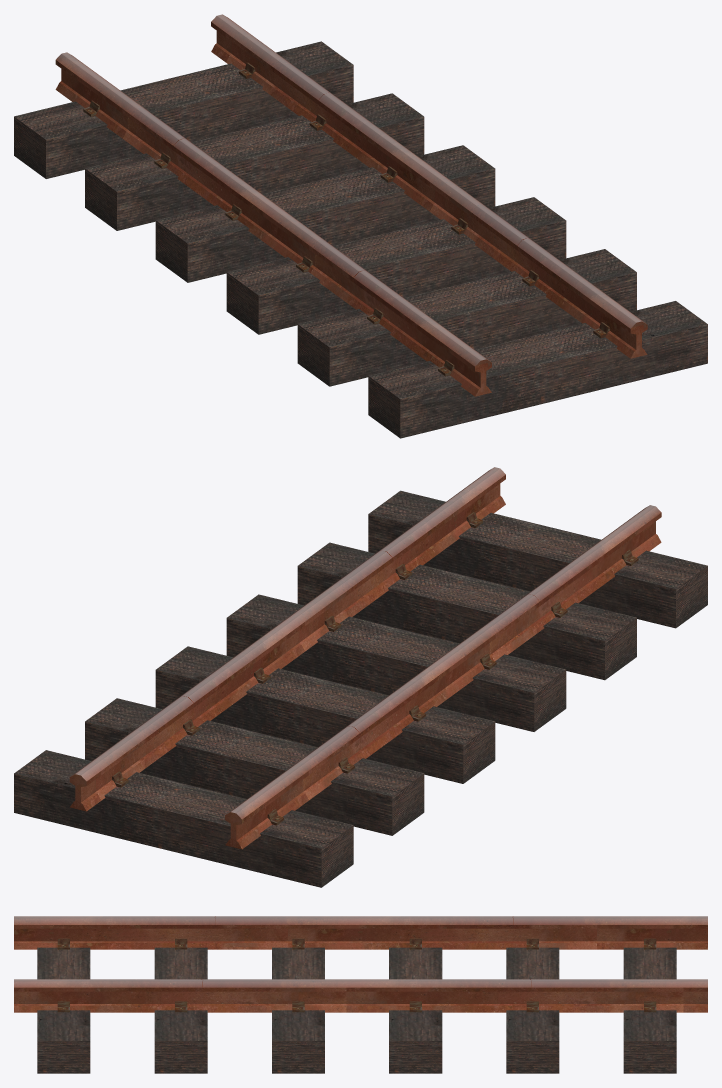
File: rail_track_750mm_tracks.obj
The picture shows the model from 3 angles, top to bottom: view 1: azimuth 30°, elevation 25°; view 2: azimuth 150°, elevation 25°; view 3: azimuth 270°, elevation 25°; orthographic projection. The views are drawn at different scales.
Parts seen in each view (by area): view 1: RailTrackLogs, RailTrackTrack; view 2: RailTrackLogs, RailTrackTrack; view 3: RailTrackTrack, RailTrackLogs.
Part boxes in pixels (<box>): RailTrackLogs: <box>14,41,707,438</box>; RailTrackTrack: <box>55,14,647,396</box>; RailTrackLogs: <box>14,490,707,887</box>; RailTrackTrack: <box>69,467,661,849</box>; RailTrackTrack: <box>14,916,707,1012</box>; RailTrackLogs: <box>37,947,676,1073</box>.
Bounding box in the file's own units: 1.51 × 0.3392 × 3.58.
